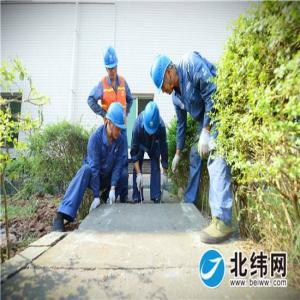blue: (153, 52, 176, 99), (106, 103, 128, 137), (144, 103, 161, 136), (105, 45, 119, 80)
